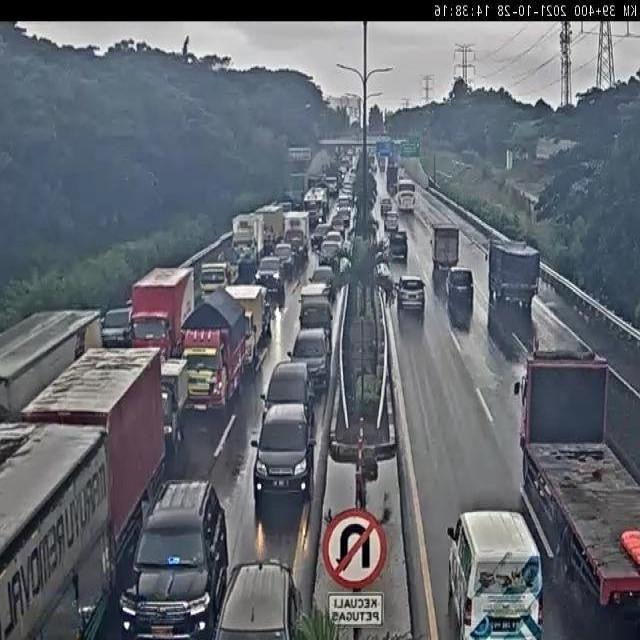Car: (127, 469, 221, 640), (209, 559, 303, 637), (251, 400, 315, 505), (262, 360, 314, 437), (288, 327, 329, 396), (298, 282, 333, 331), (396, 274, 426, 322), (303, 186, 329, 224), (308, 265, 336, 298), (274, 242, 296, 278), (318, 242, 341, 271), (388, 229, 408, 260), (311, 224, 331, 253), (338, 192, 353, 220), (383, 209, 399, 233), (386, 163, 399, 192), (324, 176, 338, 195), (368, 157, 378, 176), (338, 165, 348, 183), (279, 200, 292, 212)
Truck: (4, 345, 168, 640), (506, 338, 640, 640), (169, 287, 248, 412), (130, 267, 195, 358), (488, 240, 540, 316), (431, 225, 460, 295)
Van: (442, 510, 547, 636)
